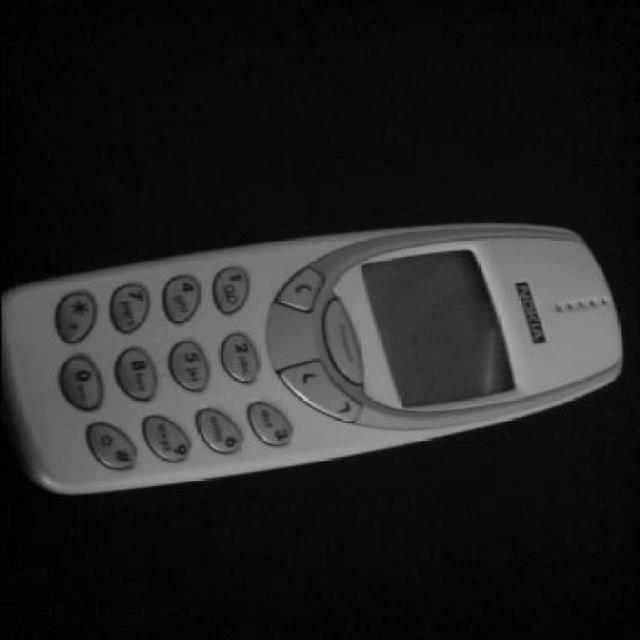fake: (10, 212, 628, 506)
